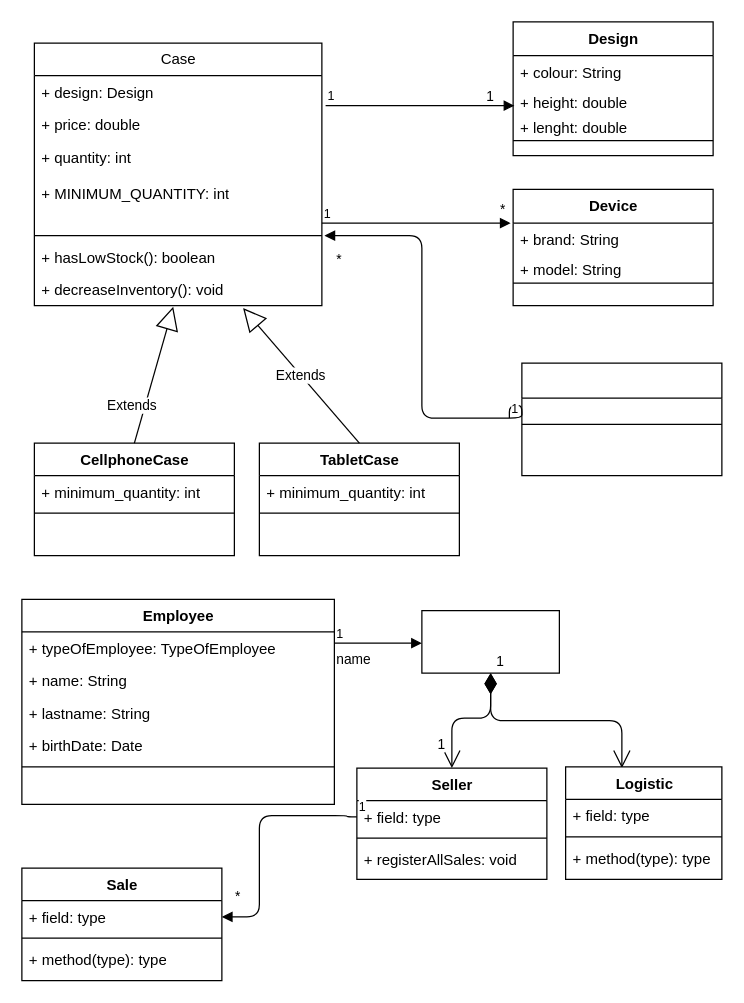
Image size: 744x1003. Some labels were removed from this diagram. The centre of each missing label's shape, as x and y in pixels:
"Inventory" belongs at (621,419).
"«interface» TypeOfEmployee" belongs at (490,641).
